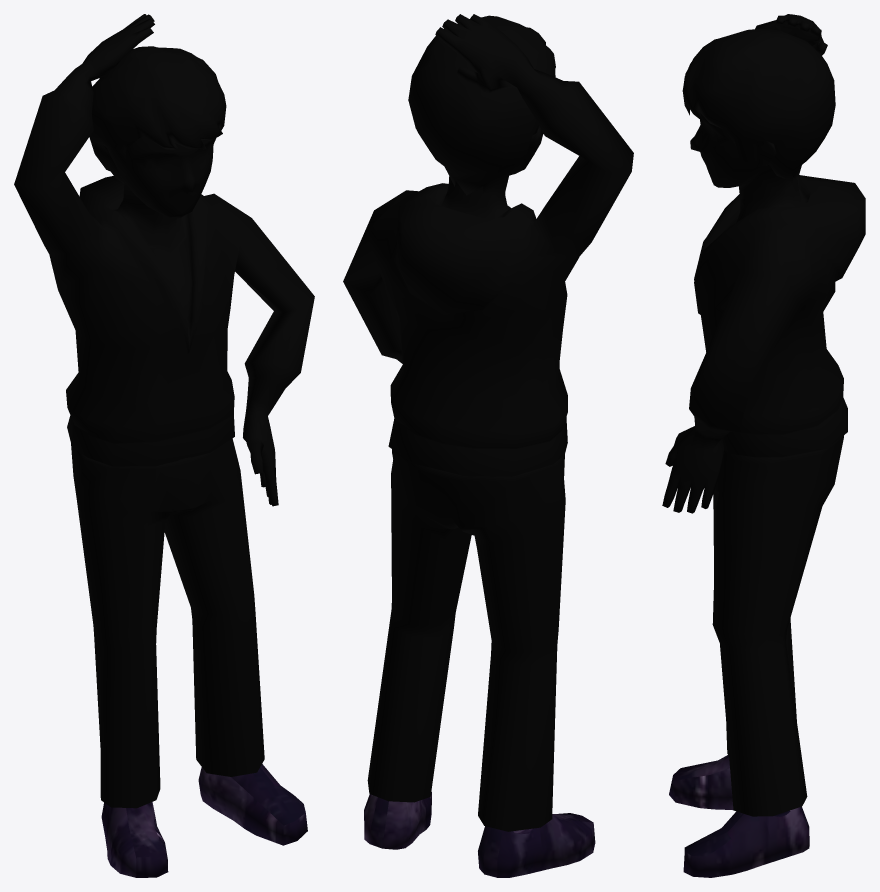
Rendered from statue-greek-02-art.glb.
3 views of the same model, side by side, from view 1: azimuth 30°, elevation 25°; view 2: azimuth 150°, elevation 25°; view 3: azimuth 270°, elevation 25° (orthographic). The views are drawn at different scales.
Visible parts, largest first — view 1: Statue_greek_02_Art; view 2: Statue_greek_02_Art; view 3: Statue_greek_02_Art.
Boxes of the visible parts, bbox=[...] form: Statue_greek_02_Art: bbox=[14, 14, 314, 877]; Statue_greek_02_Art: bbox=[343, 14, 633, 877]; Statue_greek_02_Art: bbox=[662, 14, 865, 877].
Size of what is drawn, in the model's own units: 0.7261 by 2 by 0.4548.
1 material, 1 textured.
